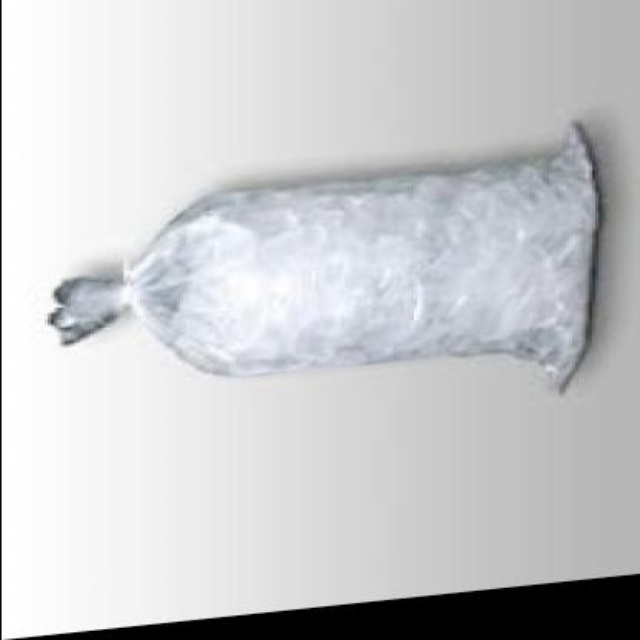trash: (48, 123, 598, 388)
